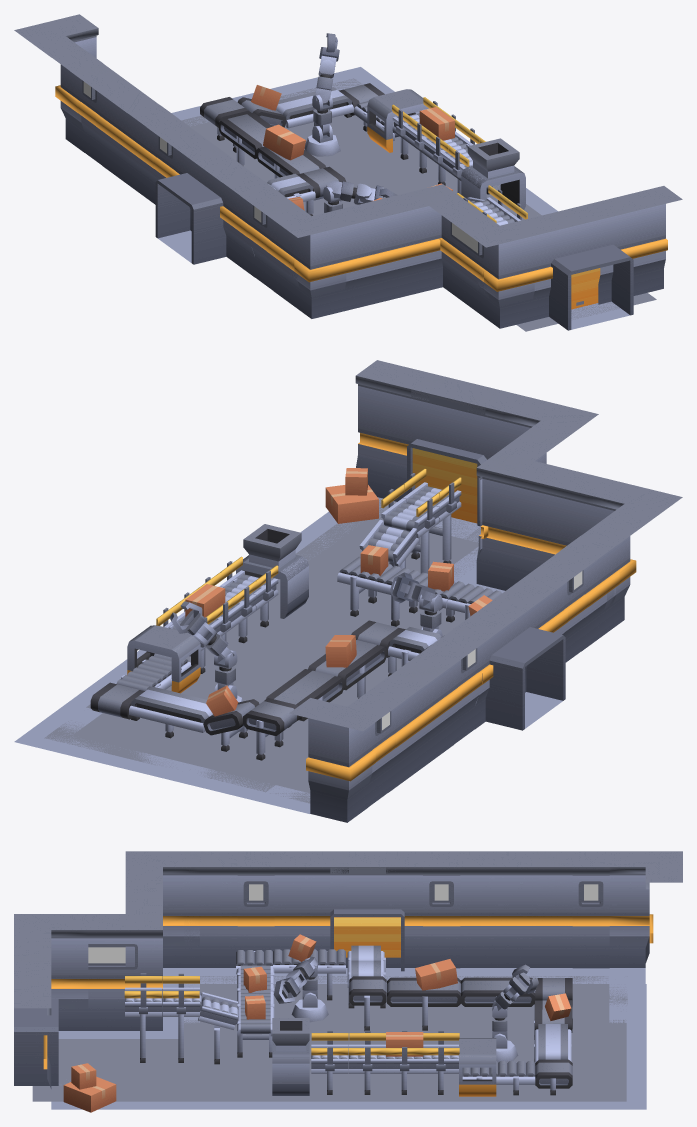
The model's file is conveyor.glb.
The picture shows the model from 3 angles, top to bottom: view 1: azimuth 30°, elevation 25°; view 2: azimuth 150°, elevation 25°; view 3: azimuth 270°, elevation 25°; orthographic projection. The views are drawn at different scales.
Visible parts, largest first — view 1: structure-doorway-wide, structure-doorway-wide.001, structure-corner-inner, structure-corner-inner.002, structure-corner-inner.001, structure-window-wide, structure-wall, structure-wall.001, structure-wall.014, cover-hopper, structure-wall.010, structure-wall.004 (+37 smaller); view 2: structure-corner-inner.001, structure-doorway-wide.001, structure-doorway-wide, structure-wall.010, structure-wall.014, structure-wall.001, structure-corner-inner, cover-hopper, top-large.027, structure-corner-inner.002, cover-stripe-window, structure-wall (+54 smaller); view 3: structure-corner-inner.001, structure-window-wide, structure-corner-inner, structure-corner-inner.002, structure-window, structure-wall.002, structure-wall.015, structure-wall.008, structure-wall.009, structure-doorway-wide, structure-window.001, structure-doorway-wide.001 (+81 smaller).
Boxes of the visible parts, x1,y1,x2,y2 form: structure-doorway-wide: (549,198,633,330); structure-doorway-wide.001: (155,126,226,264); structure-corner-inner: (260,203,362,318); structure-corner-inner.002: (453,217,551,328); structure-corner-inner.001: (14,14,98,152); structure-window-wide: (420,191,490,320); structure-wall: (344,200,395,310); structure-wall.001: (377,192,428,302); structure-wall.014: (631,186,682,295); cover-hopper: (461,138,525,209); structure-wall.010: (410,186,451,294); structure-wall.004: (203,160,254,277); structure-corner-inner.001: (289,691,405,822); structure-doorway-wide.001: (476,582,565,730); structure-doorway-wide: (407,374,505,538); structure-wall.010: (474,452,534,593); structure-wall.014: (355,360,413,509); structure-wall.001: (513,461,571,584); structure-corner-inner: (587,479,682,628); cover-hopper: (236,524,308,618); top-large.027: (197,743,305,792); structure-corner-inner.002: (503,396,598,463); cover-stripe-window: (127,625,200,693); structure-wall: (550,470,608,555); structure-corner-inner.001: (608,851,682,983); structure-window-wide: (69,914,144,1038); structure-corner-inner: (125,851,199,983); structure-corner-inner.002: (14,914,88,1038); structure-window: (572,851,609,983); structure-wall.002: (201,851,238,983); structure-wall.015: (532,851,569,978); structure-wall.008: (459,851,496,980); structure-wall.009: (495,851,532,977); structure-doorway-wide: (14,953,58,1085); structure-window.001: (423,851,460,979); structure-doorway-wide.001: (330,851,404,978).
Bounding box in the file's own units: 10.2 × 3 × 17.98.
Materials: 32 (32 with a texture image).
